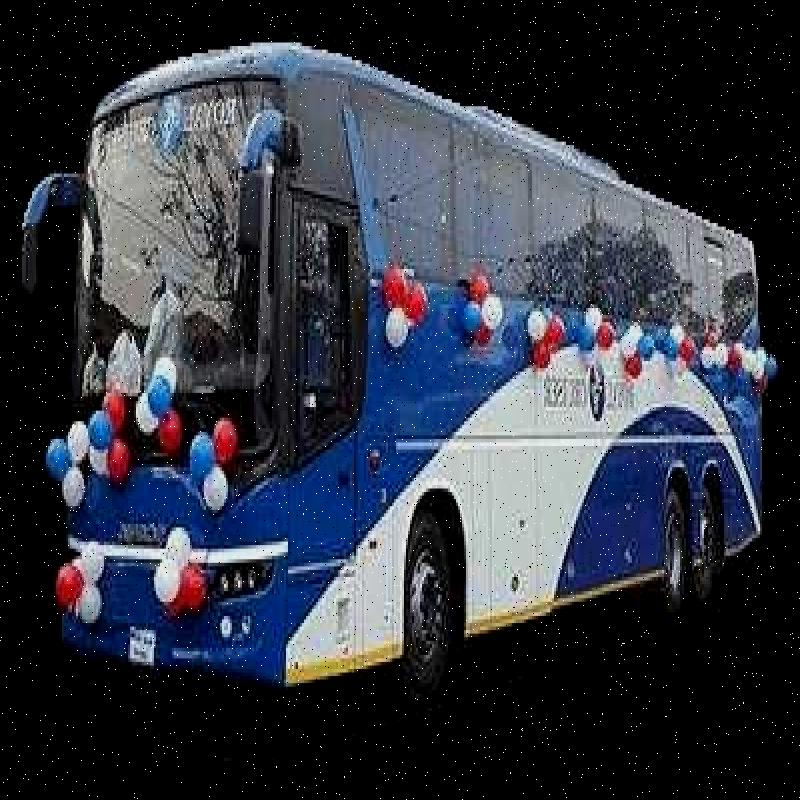bus: (11, 23, 773, 735)
